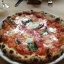basil: (29, 19, 50, 31), (23, 40, 39, 53), (20, 16, 36, 25)
pizza: (2, 13, 62, 61)
